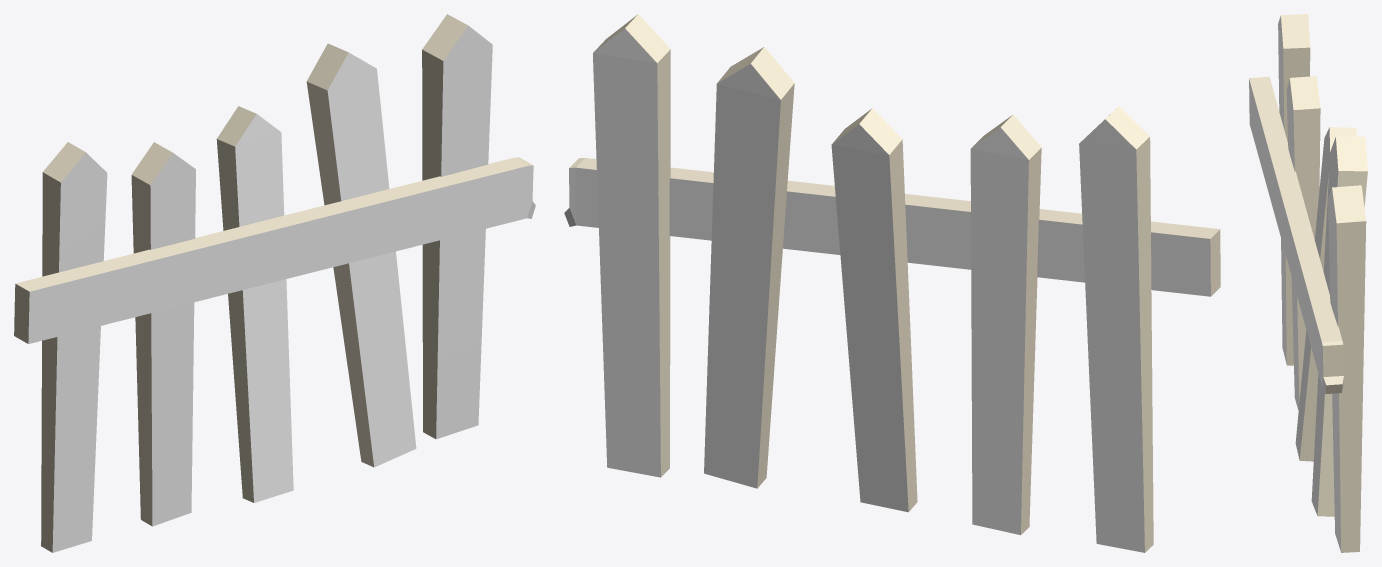
Rendered from HWN20_SmallFence_01.glb.
3 views of the same model, side by side, from view 1: azimuth 30°, elevation 25°; view 2: azimuth 150°, elevation 25°; view 3: azimuth 270°, elevation 25° (orthographic). The views are drawn at different scales.
Visible parts, largest first — view 1: HWN20_SmallFence_01; view 2: HWN20_SmallFence_01; view 3: HWN20_SmallFence_01.
Part boxes in pixels (x1=…): HWN20_SmallFence_01: x1=14, y1=14, x2=535, y2=552; HWN20_SmallFence_01: x1=564, y1=14, x2=1220, y2=552; HWN20_SmallFence_01: x1=1249, y1=14, x2=1367, y2=552.
Size of what is drawn, in the model's own units: 0.7229 by 0.5111 by 0.1526.
1 material, 1 textured.
